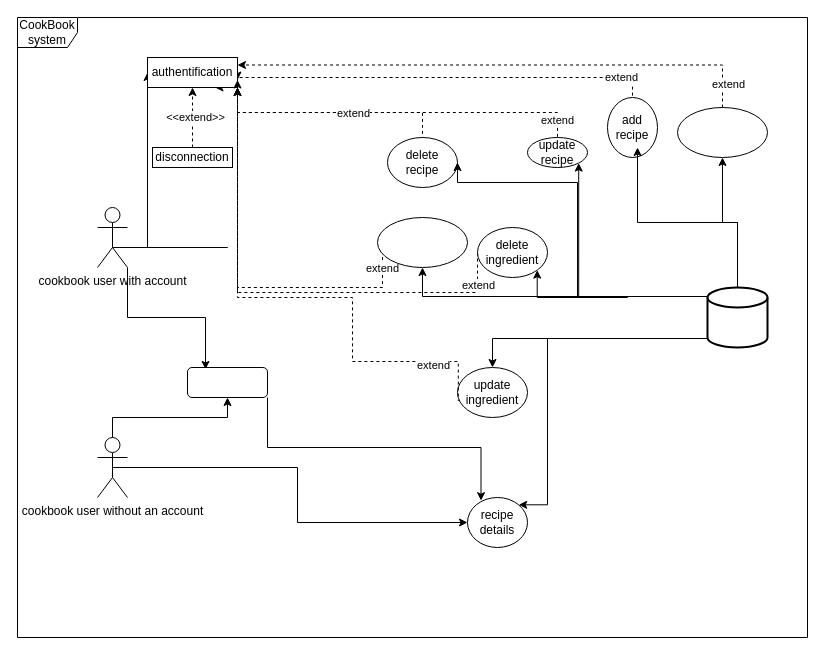
This 825x655 diagram has some shape labels left out. Here are the shapes that lost their labels. From the top down, the centre of each, then its label:
At point 722,132: "middleware".
At point 422,242: "add ingredient".
At point 227,382: "read recipe".
